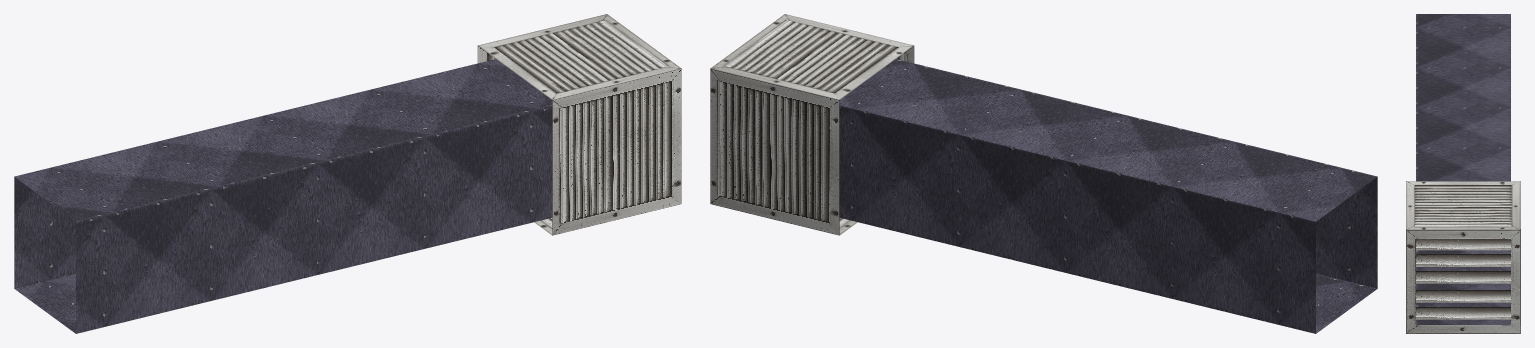
File: vent.glb
The picture shows the model from 3 angles, left to right: view 1: azimuth 30°, elevation 25°; view 2: azimuth 150°, elevation 25°; view 3: azimuth 270°, elevation 25°; orthographic projection. The views are drawn at different scales.
Visible parts, largest first — view 1: Cube.001, Cube.002; view 2: Cube.001, Cube.002; view 3: Cube.001, Cube.002, Cube, Blade.001, Blade.002, Blade.003, Blade.004, Blade.
Boxes of the visible parts, box(x1,y1,x2,y2) form: Cube.001: box(14, 59, 552, 333); Cube.002: box(477, 14, 681, 235); Cube.001: box(839, 59, 1377, 333); Cube.002: box(710, 14, 914, 235); Cube.001: box(1416, 14, 1510, 324); Cube.002: box(1406, 181, 1520, 229); Cube: box(1406, 230, 1520, 333); Blade.001: box(1416, 254, 1510, 266); Blade.002: box(1416, 271, 1510, 283); Blade.003: box(1416, 290, 1510, 302); Blade.004: box(1416, 307, 1510, 319); Blade: box(1416, 239, 1510, 250).
Size of the model in its own units: 9.27 by 2 by 2.
8 materials, 8 textured.
